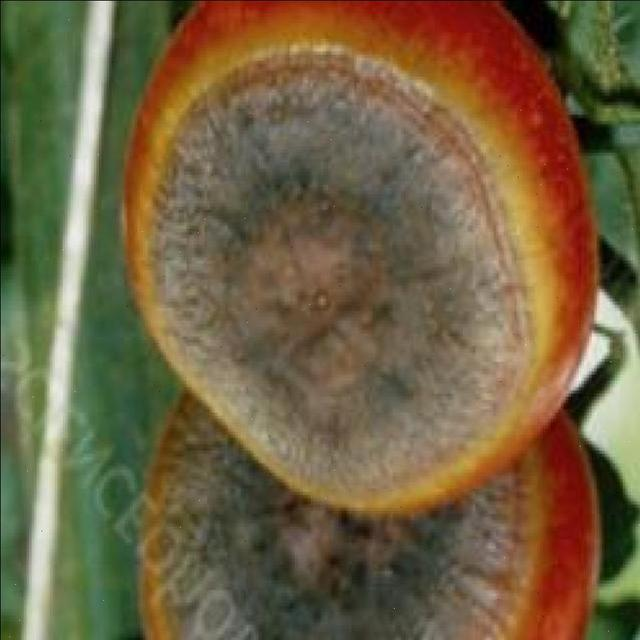Blossom End Rot Fruit: (227, 156, 260, 349)
